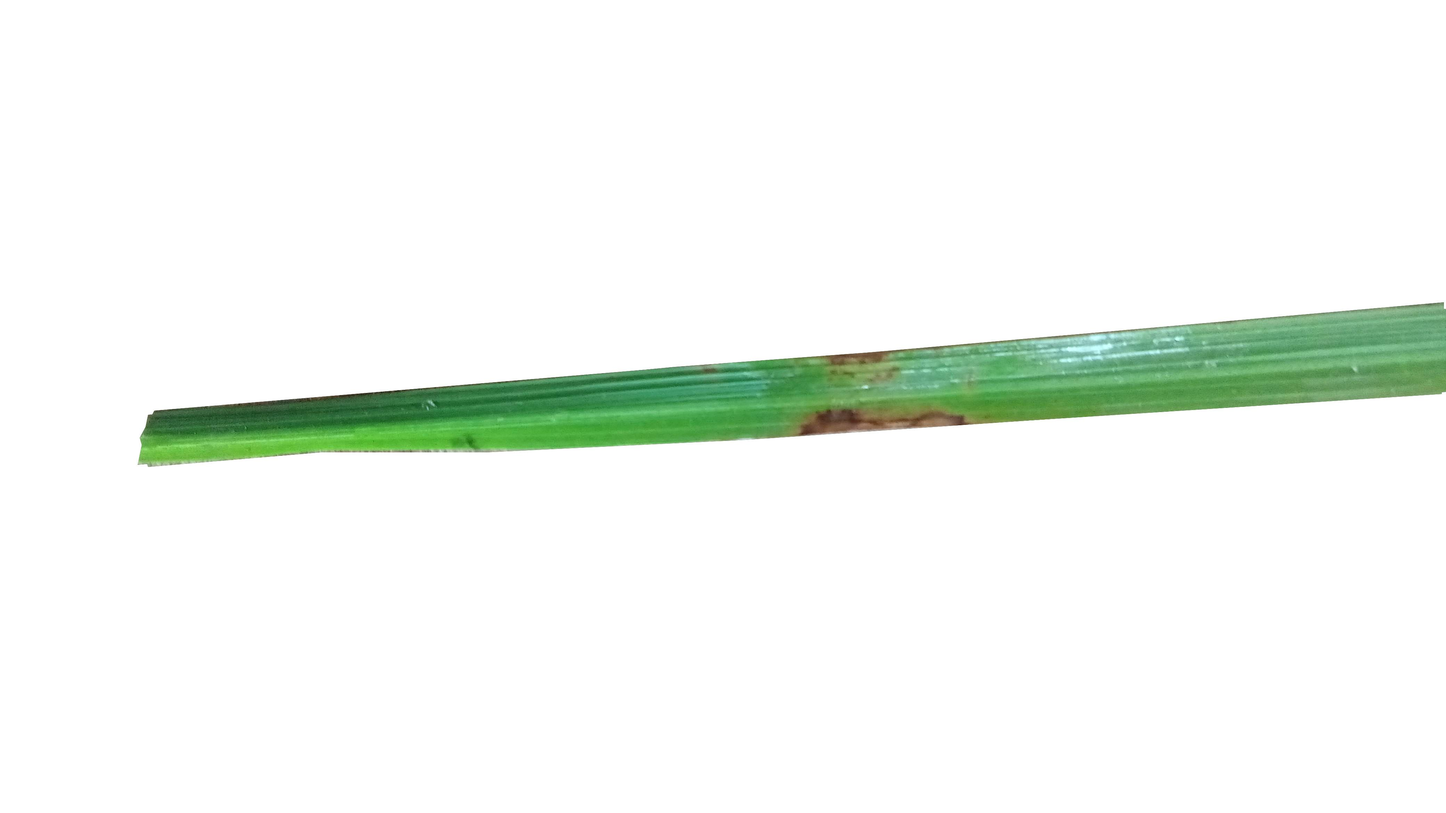Rice blast: (789, 389, 973, 437), (800, 350, 925, 388)
